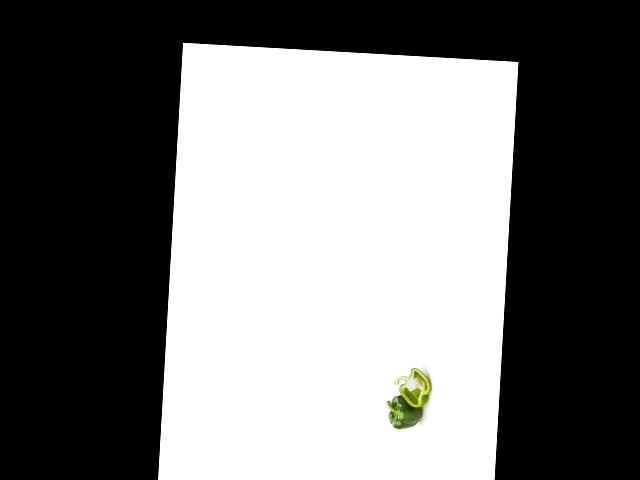bell_pepper: (391, 364, 431, 409)
